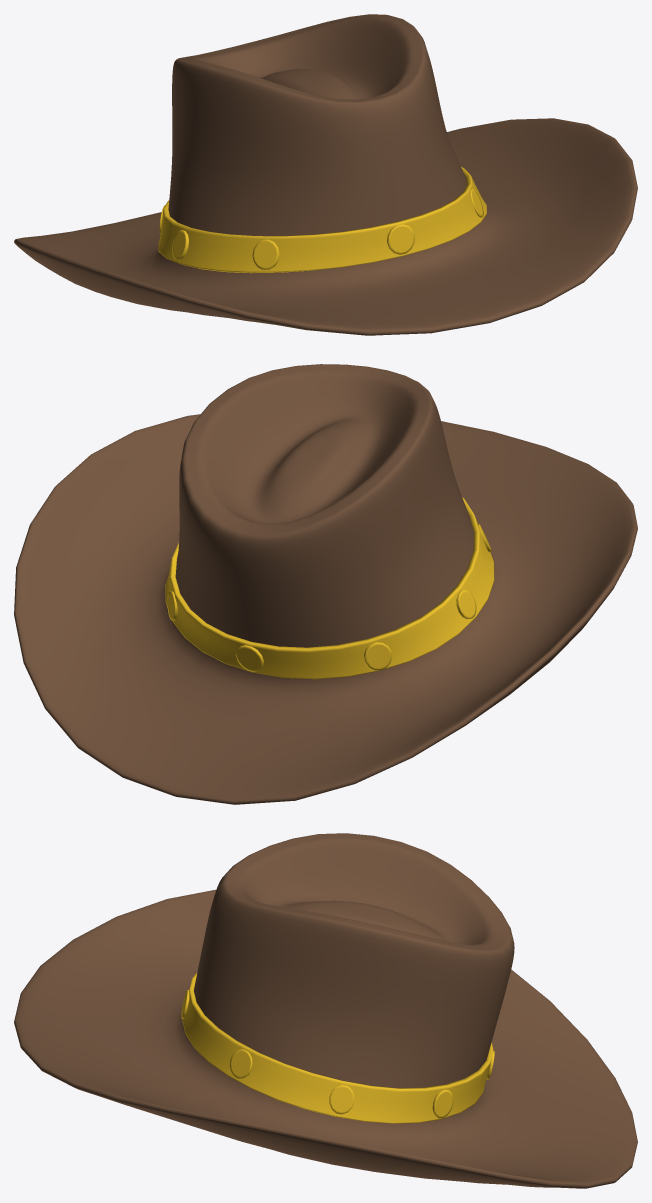
Rendered from Head_Cowboy.fbx.
The picture shows the model from 3 angles, top to bottom: view 1: azimuth 30°, elevation 25°; view 2: azimuth 150°, elevation 25°; view 3: azimuth 270°, elevation 25°; orthographic projection. The views are drawn at different scales.
Parts seen in each view (by area): view 1: Head_Cowboy; view 2: Head_Cowboy; view 3: Head_Cowboy.
Boxes of the visible parts, left/top/right/bottom form: Head_Cowboy: left=14, top=14, right=637, bottom=335; Head_Cowboy: left=14, top=364, right=637, bottom=804; Head_Cowboy: left=14, top=833, right=637, bottom=1188.
Size of the model in its own units: 167 by 83.7 by 175.
